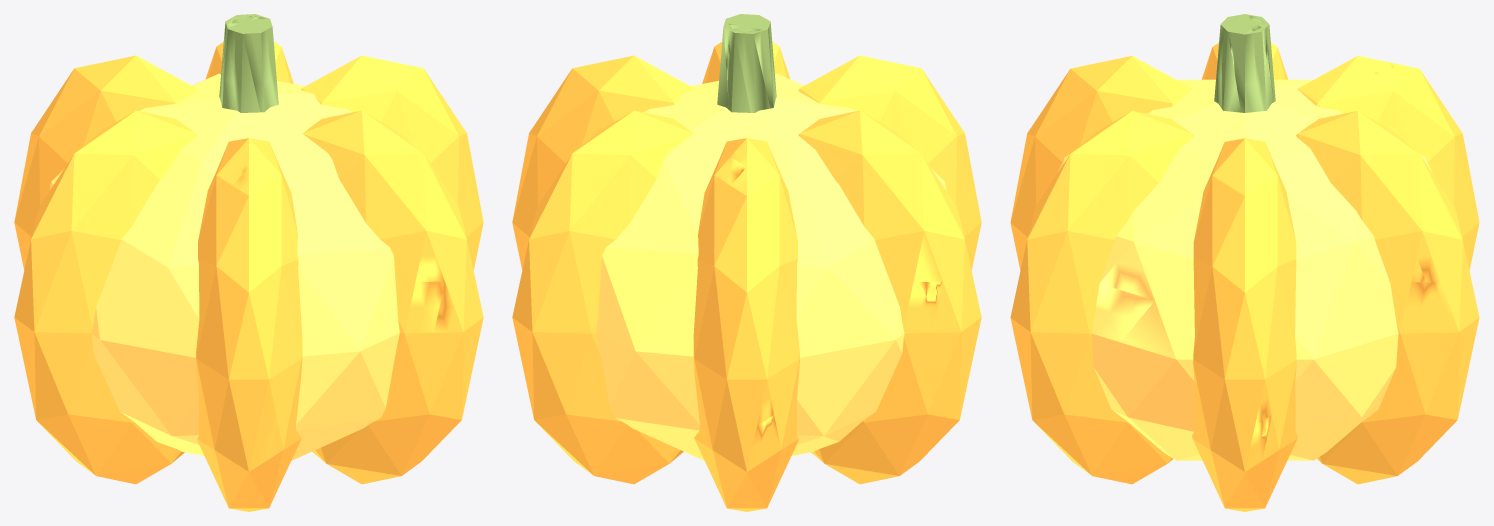
File: halloween_mini_pumpkin.glb
3 views of the same model, side by side, from view 1: azimuth 30°, elevation 25°; view 2: azimuth 150°, elevation 25°; view 3: azimuth 270°, elevation 25° (orthographic).
Parts seen in each view (by area): view 1: MiniPumpkin; view 2: MiniPumpkin; view 3: MiniPumpkin.
Part boxes in pixels (x1,y1,x2,y2): MiniPumpkin: (14, 14, 483, 511); MiniPumpkin: (512, 14, 981, 511); MiniPumpkin: (1010, 14, 1479, 511).
Size of the model in its own units: 1.38 by 1.27 by 1.25.
